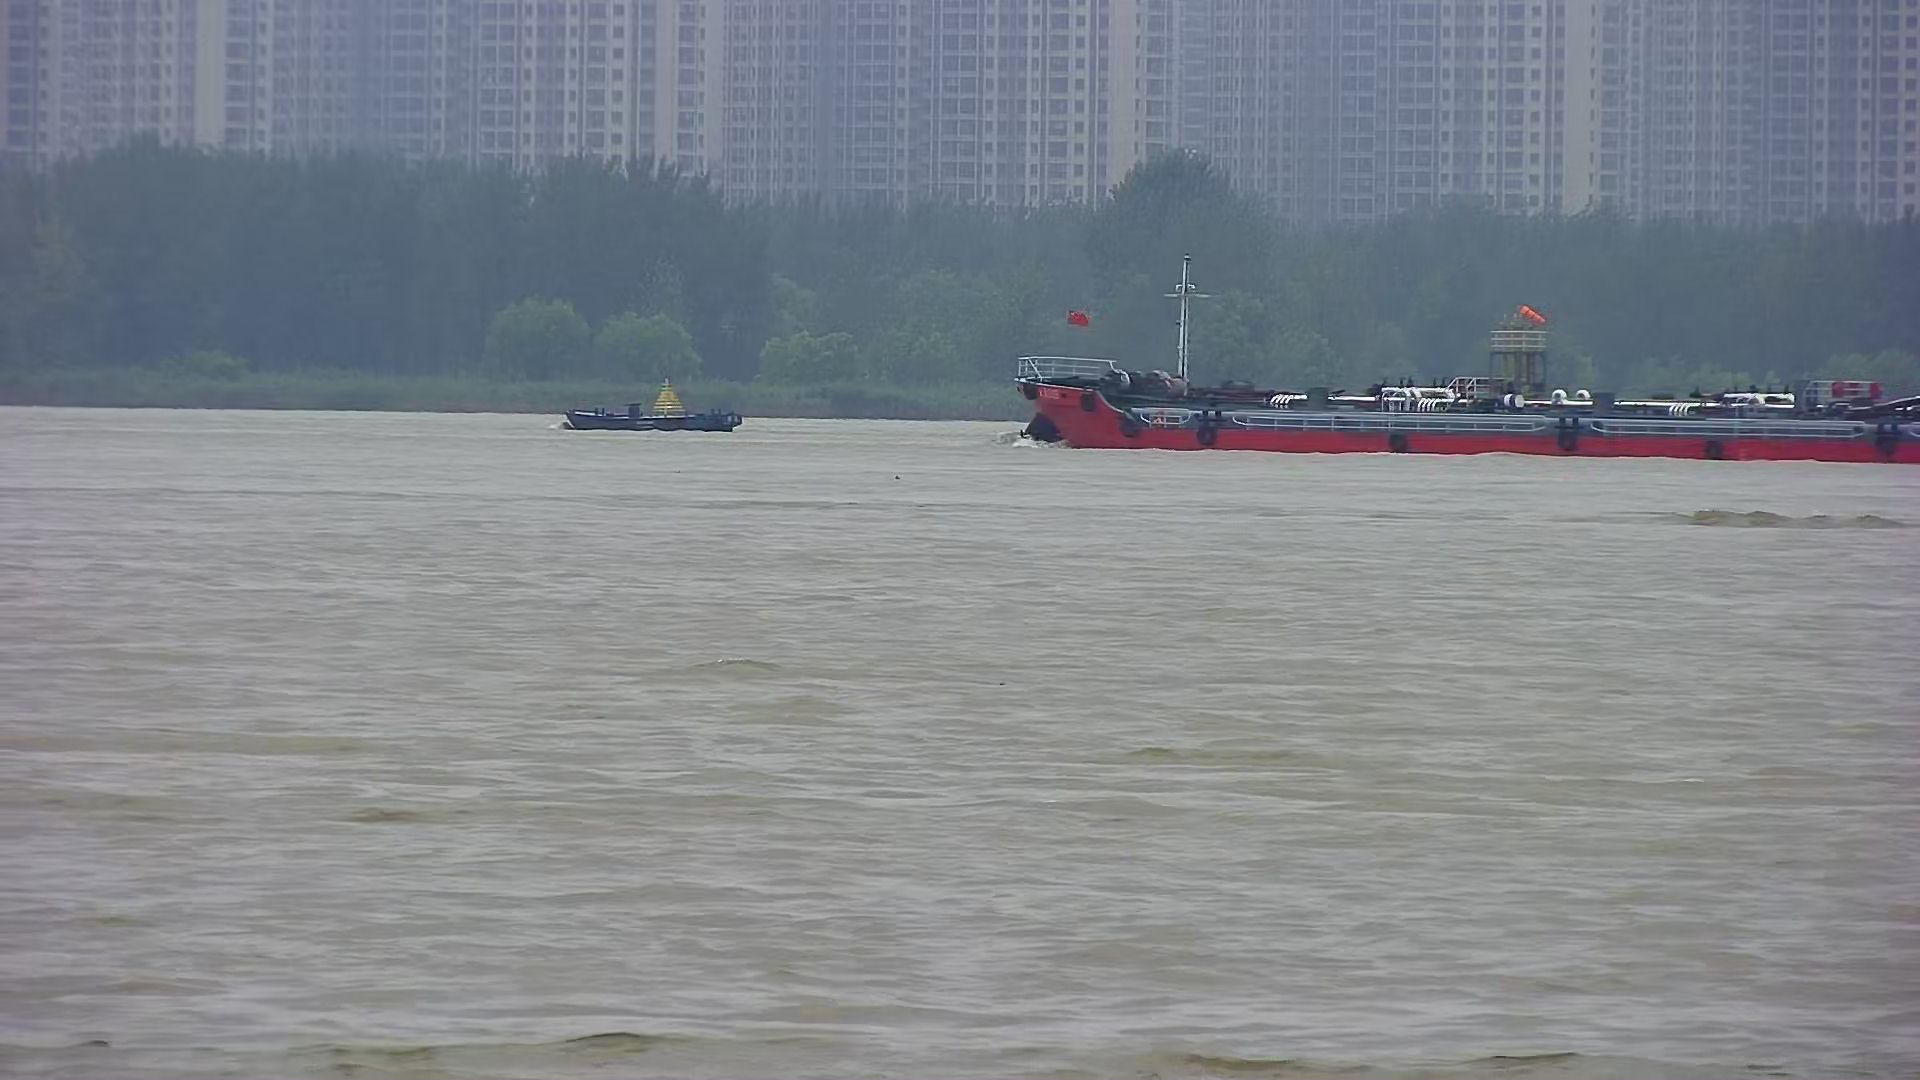boat: (559, 373, 736, 440)
ship: (1006, 299, 1920, 477)
